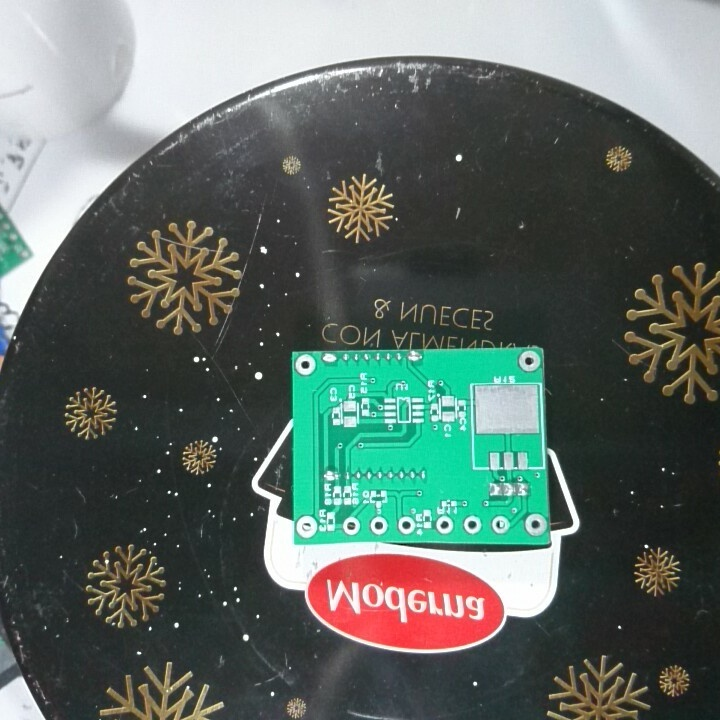F: (522, 510, 548, 538), (293, 352, 317, 380), (339, 513, 362, 538), (433, 513, 456, 537), (295, 514, 318, 538), (516, 350, 541, 372), (367, 513, 389, 536), (491, 514, 512, 537), (396, 513, 417, 535), (462, 512, 482, 535)
P: (319, 467, 340, 485), (319, 351, 339, 366), (405, 350, 425, 364)
